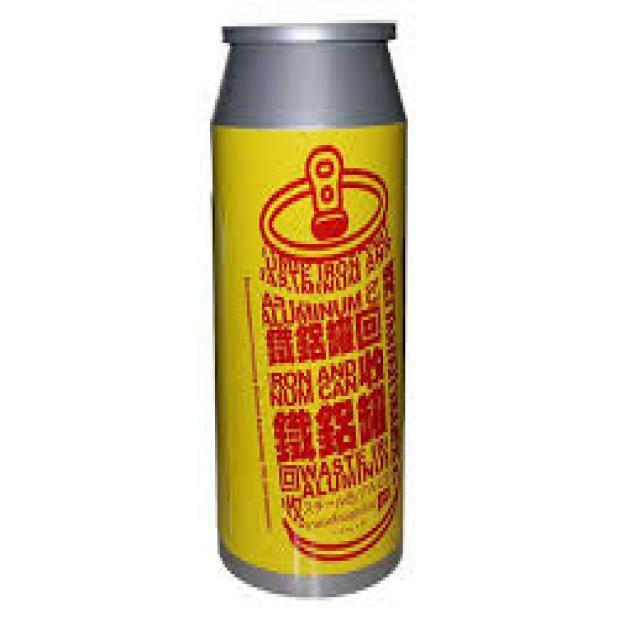recyclable: (208, 23, 410, 598)
